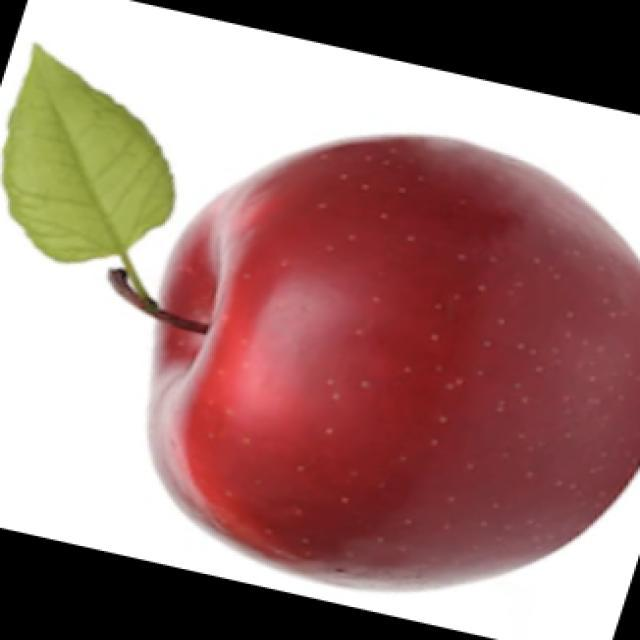Apple: (129, 132, 639, 591)
